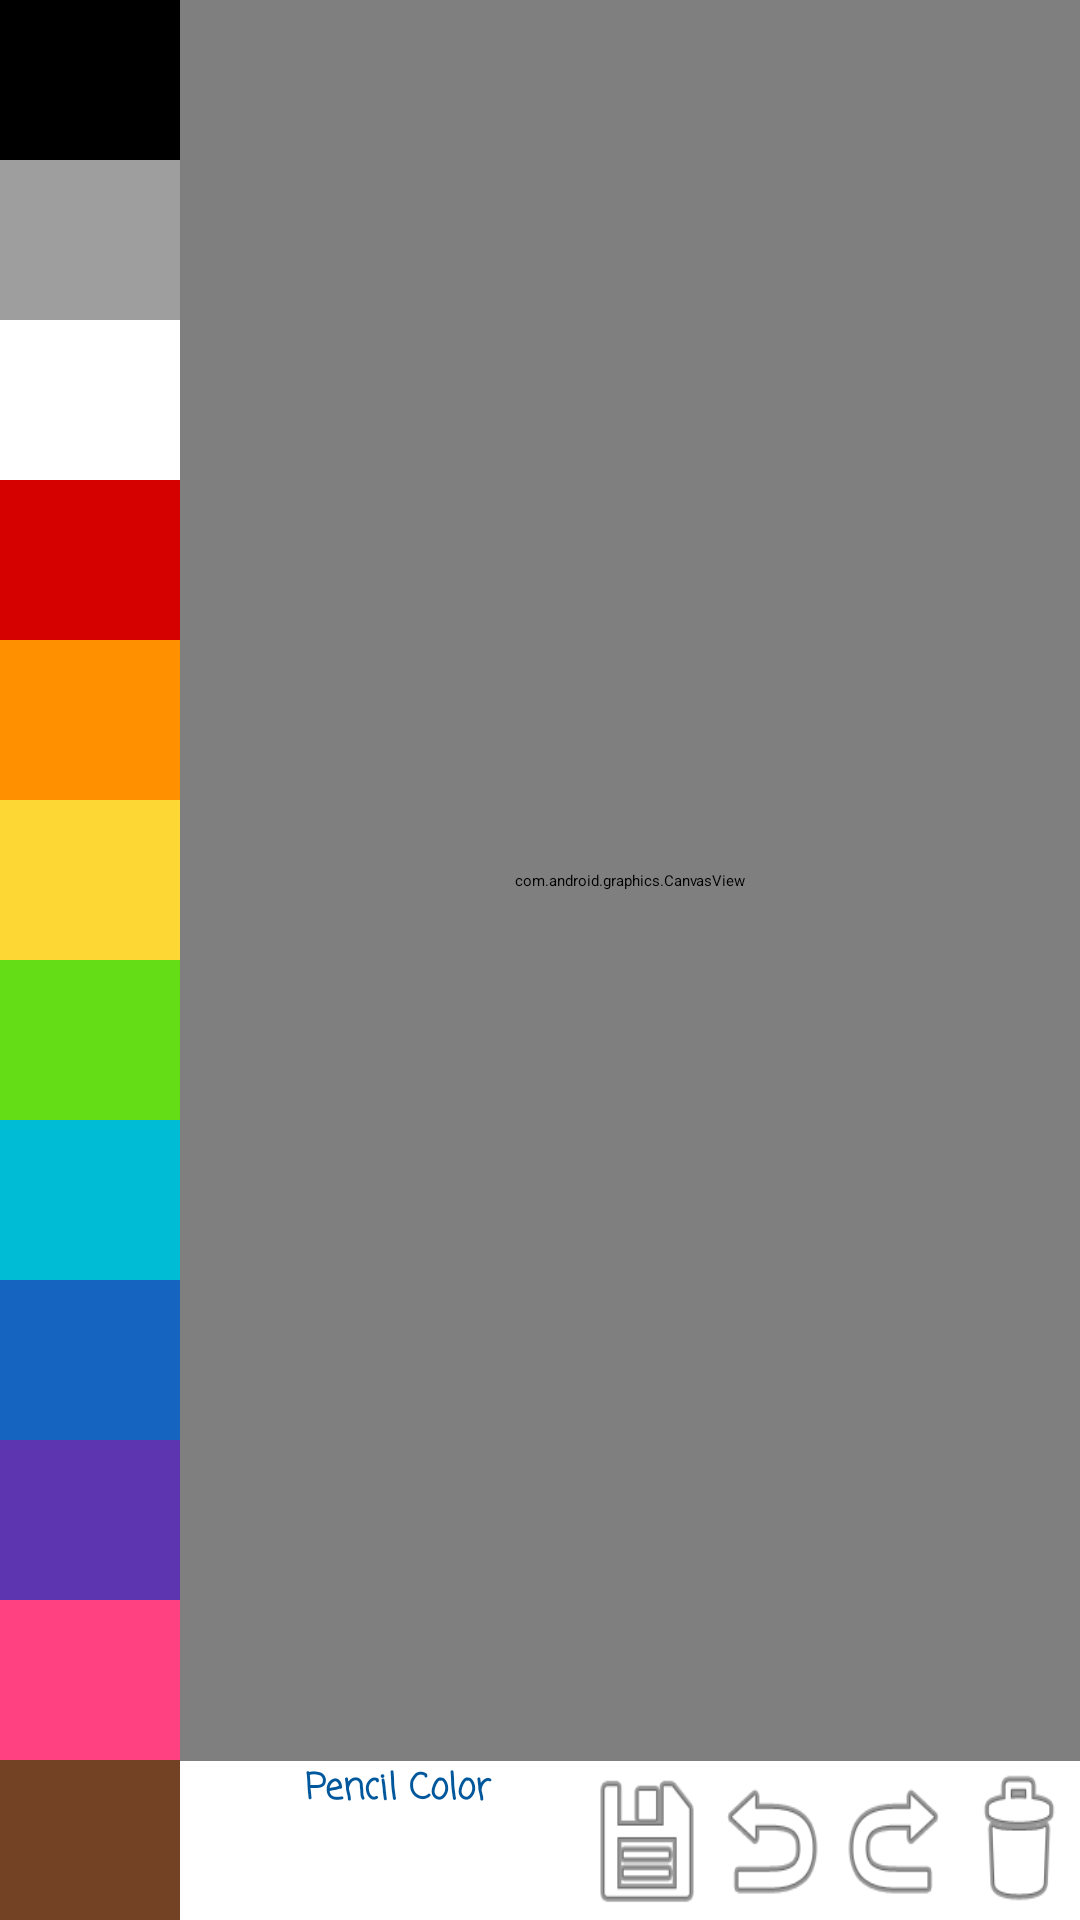

Point at icon controls on the screen. Image size 1080 × 1920, points as point (x, y).
Clear All: point (1019, 1838)
Save: point (647, 1841)
Undo: point (773, 1842)
